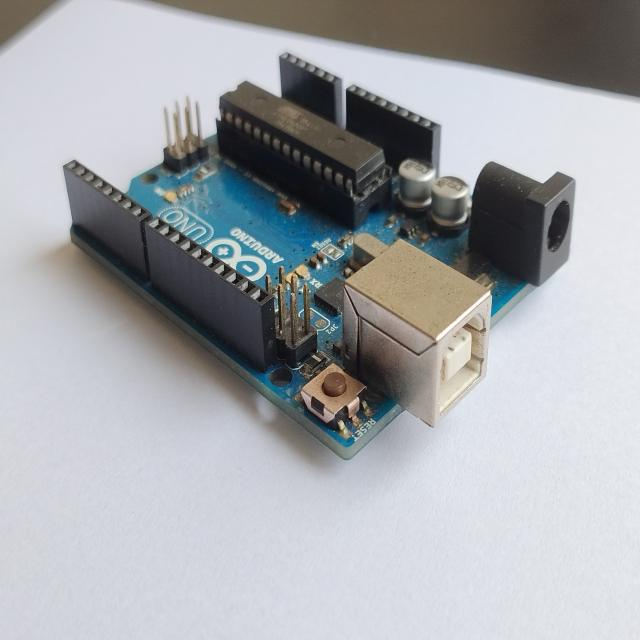arduino: (59, 44, 596, 458)
